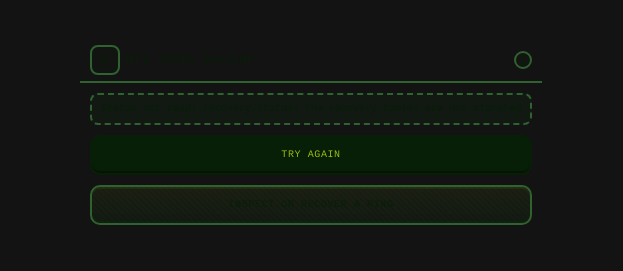
NfcRecoveryScreen › shows a failed status read as its failure, with nothing to arm or write
Check: the text "NOT SET" is not shown
Check: the button "Set up" is not shown
Click the button "Try Again" at (311, 155), box x1=90 y1=135 x2=532 y2=175
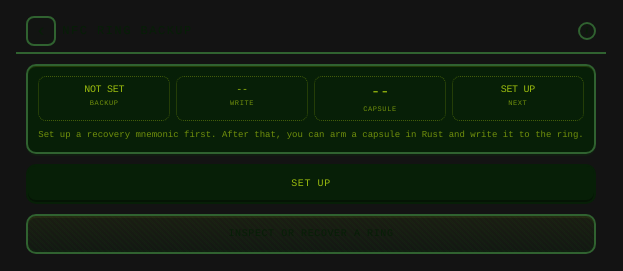
Check: the text "NOT SET" is shown, box x1=84 y1=84 x2=124 y2=95
Check: the button "Set up" is shown, box x1=26 y1=164 x2=596 y2=204
